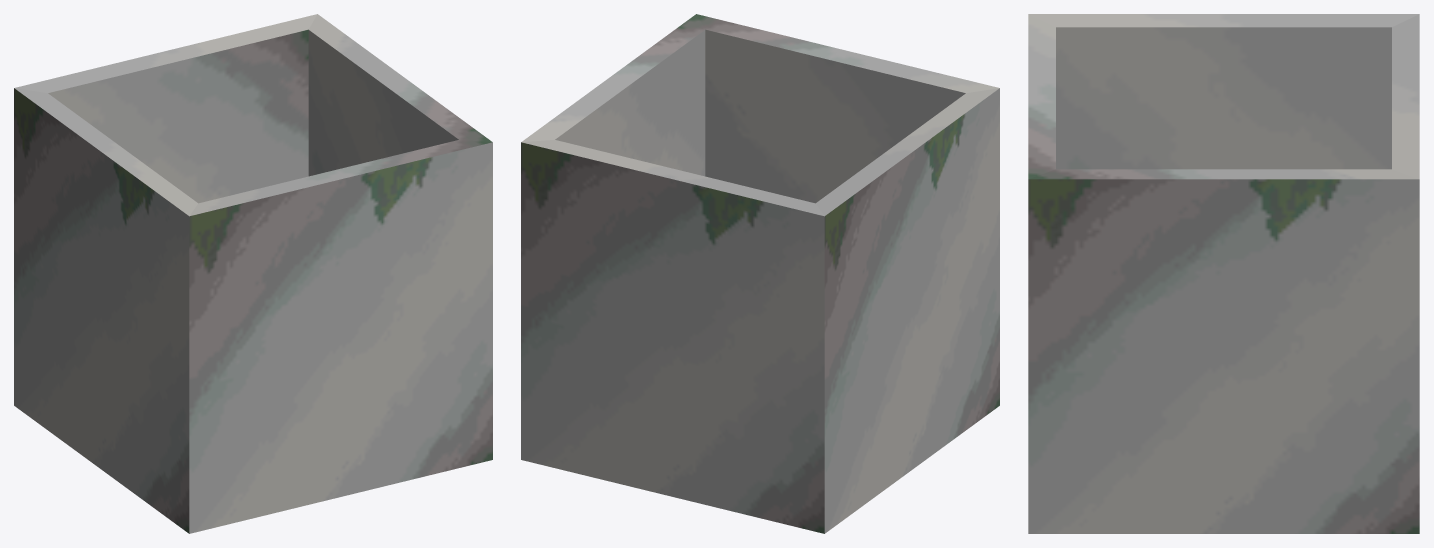
Rendered from IrrigationBox.fbx.
3 views of the same model, side by side, from view 1: azimuth 30°, elevation 25°; view 2: azimuth 150°, elevation 25°; view 3: azimuth 270°, elevation 25° (orthographic). The views are drawn at different scales.
Parts seen in each view (by area): view 1: Irrigation; view 2: Irrigation; view 3: Irrigation.
Boxes of the visible parts, x1,y1,x2,y2 form: Irrigation: (14,14,492,533); Irrigation: (521,14,999,533); Irrigation: (1028,14,1419,533).
Bounding box in the file's own units: 438 × 438 × 438.
